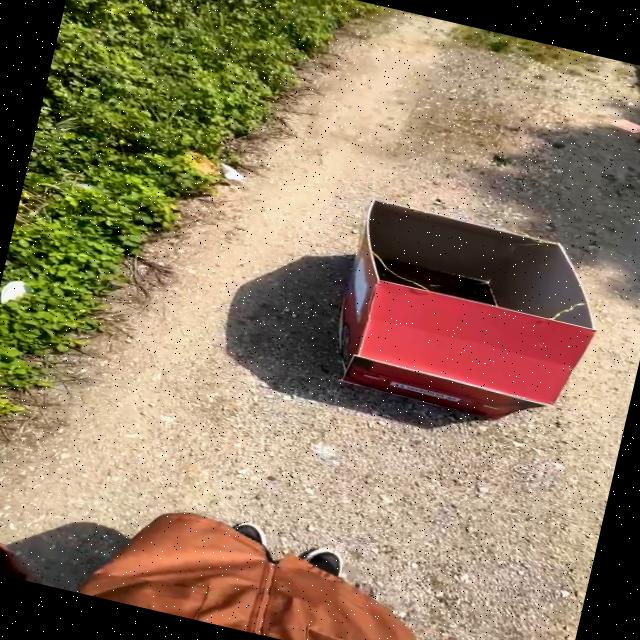red_car: (265, 177, 640, 463)
